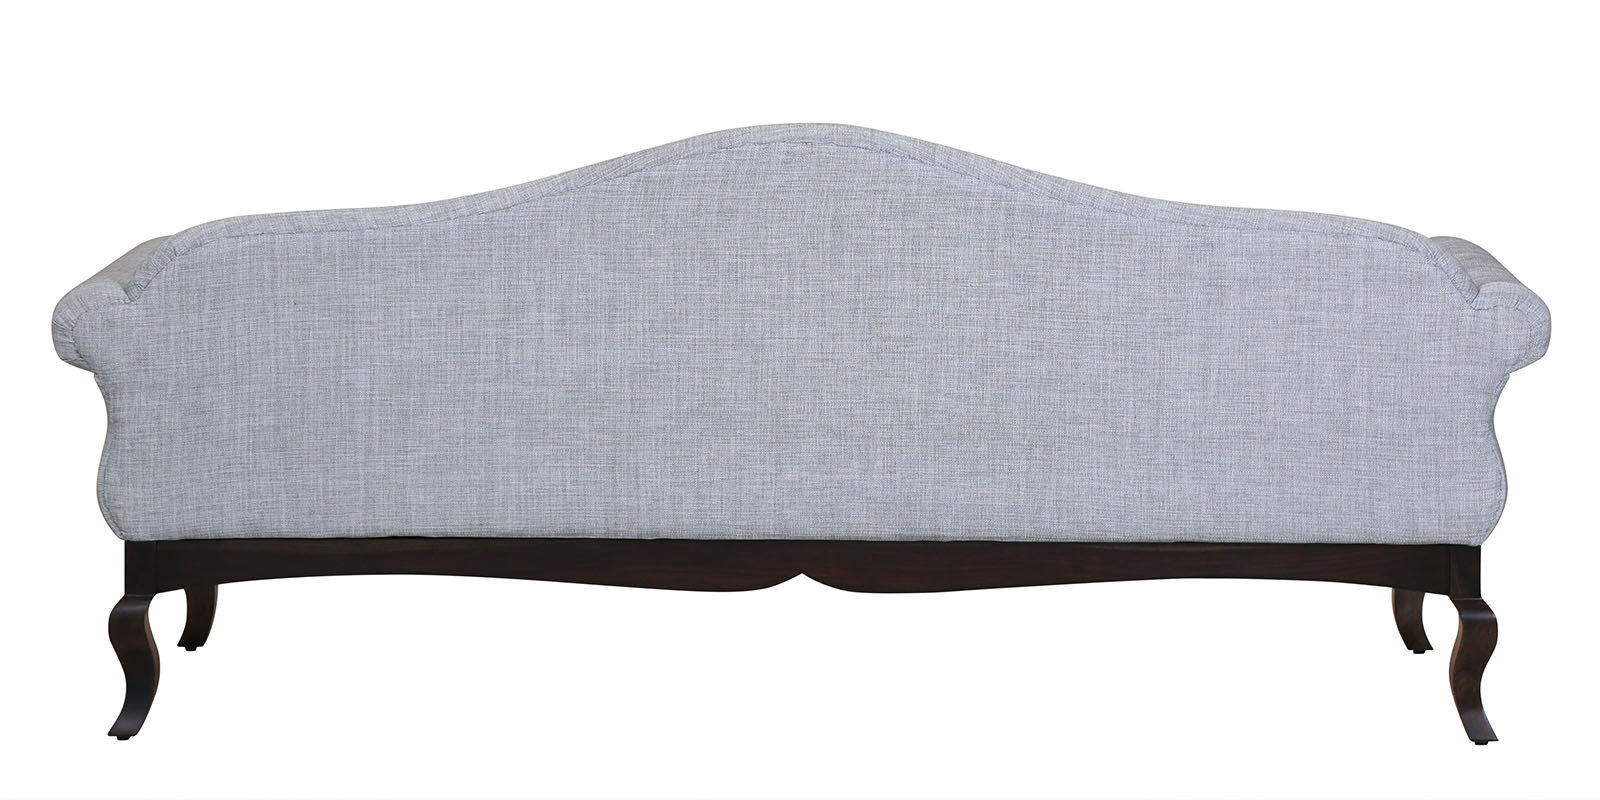Anne Three Seater Sofa in Warm Chestnut Finish by Amberville: (43, 108, 1557, 746)
